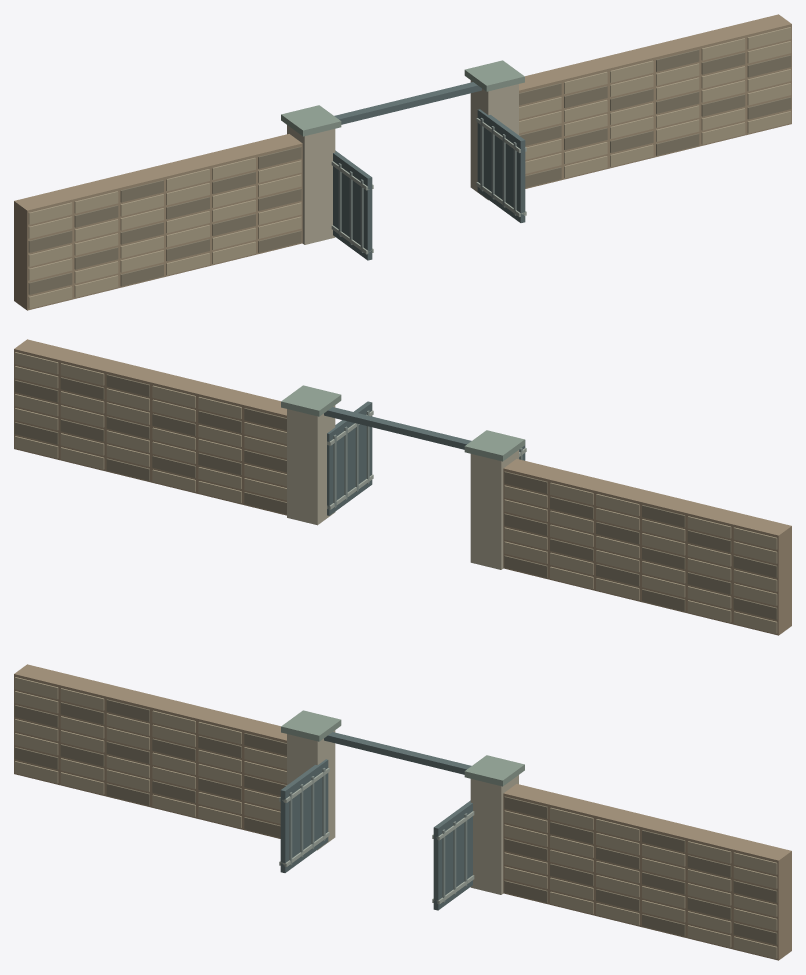
The model's file is wall-gate-open.glb.
The picture shows the model from 3 angles, top to bottom: view 1: azimuth 30°, elevation 25°; view 2: azimuth 150°, elevation 25°; view 3: azimuth 330°, elevation 25°; orthographic projection.
Parts seen in each view (by area): view 1: wall-gate-open; view 2: wall-gate-open; view 3: wall-gate-open.
Part boxes in pixels (x1=…): wall-gate-open: x1=14, y1=14, x2=791, y2=310; wall-gate-open: x1=14, y1=339, x2=791, y2=635; wall-gate-open: x1=14, y1=664, x2=791, y2=960.
Size of the model in its own units: 20 by 2.92 by 2.48.
